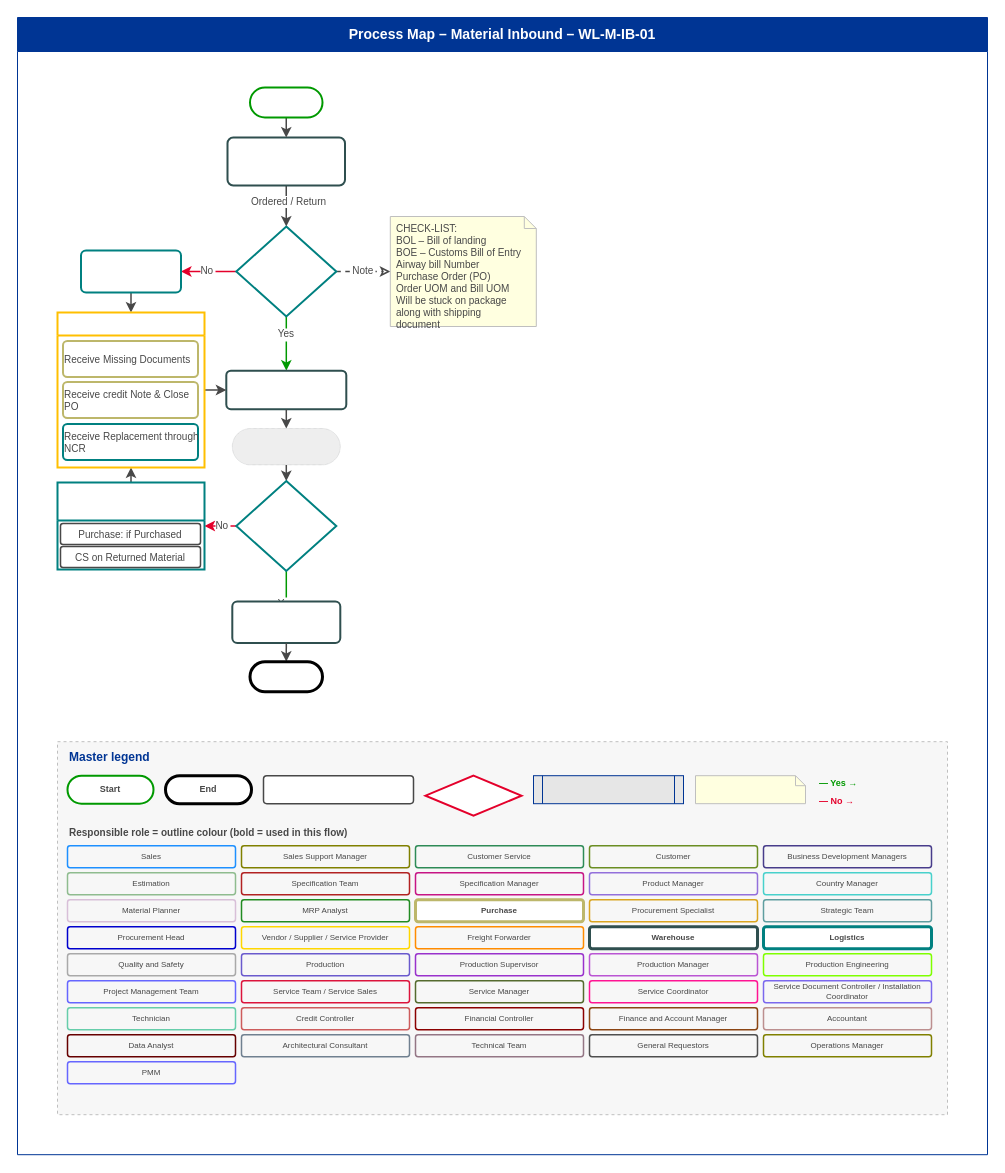
Image size: 1005x1173. Some labels were removed from this diagram. The box of each missing label's shape, as (x1, y1, x2, y2) in pixels:
2Q APPROVED ?: (235, 480, 337, 572)
2Q CHECK Ref S#: WL-S-QC-01: (232, 428, 340, 464)
Activity (outline = role): (262, 774, 414, 804)
Corrective Action by Purchase: (56, 311, 205, 468)
Decision: (424, 774, 522, 816)
EXIT: (248, 660, 324, 693)
INBOUND: (248, 86, 323, 118)
Linked process (Ref ID): (532, 775, 684, 804)
Move Material to discrepancy rack & Report to..: (56, 481, 205, 570)
Note / checklist: (694, 775, 806, 804)
Process GRN in SAP Quality & Quantity CHECK: (225, 369, 347, 410)
PUT AWAY/ Material Stock in Bin location: (231, 600, 341, 644)
Receiving material/s at the warehouse: (226, 136, 346, 186)
Send Discrepancy to Purchase: (80, 249, 182, 293)
Shipment Document (BOL) Available & Verified?: (235, 225, 337, 317)
